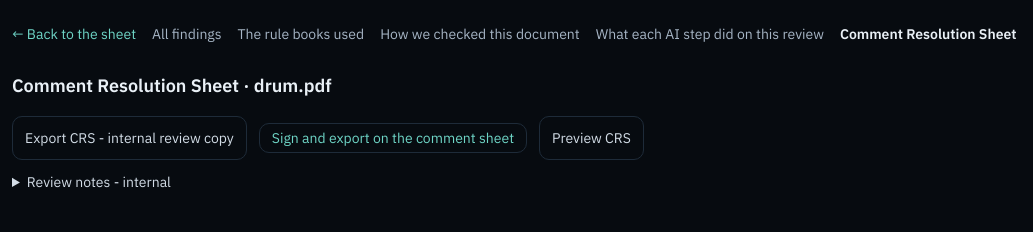
Test: 2f: the engineer's internal notes are their own table, not comments › review notes on screen are collapsed and fetched only when opened
The width and height of the screenshot is (1033, 232).
Step 1. Click the heading "Review notes - internal" → (99, 182), box [27,173,171,191]
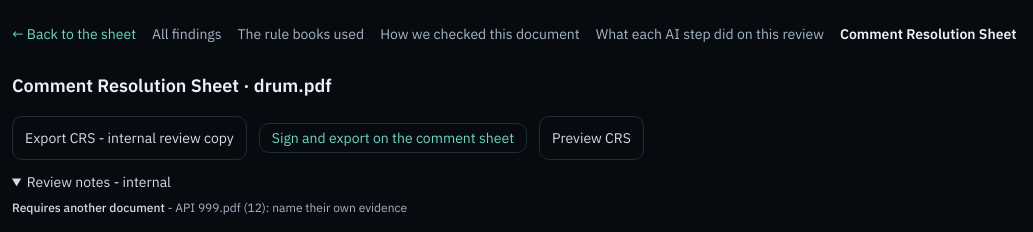
Now the text "Requires another document" is shown, box [12,200,165,215]
